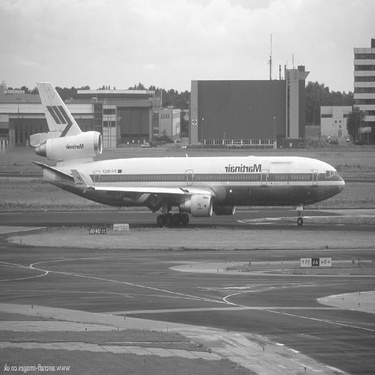airplane: (7, 59, 359, 241)
